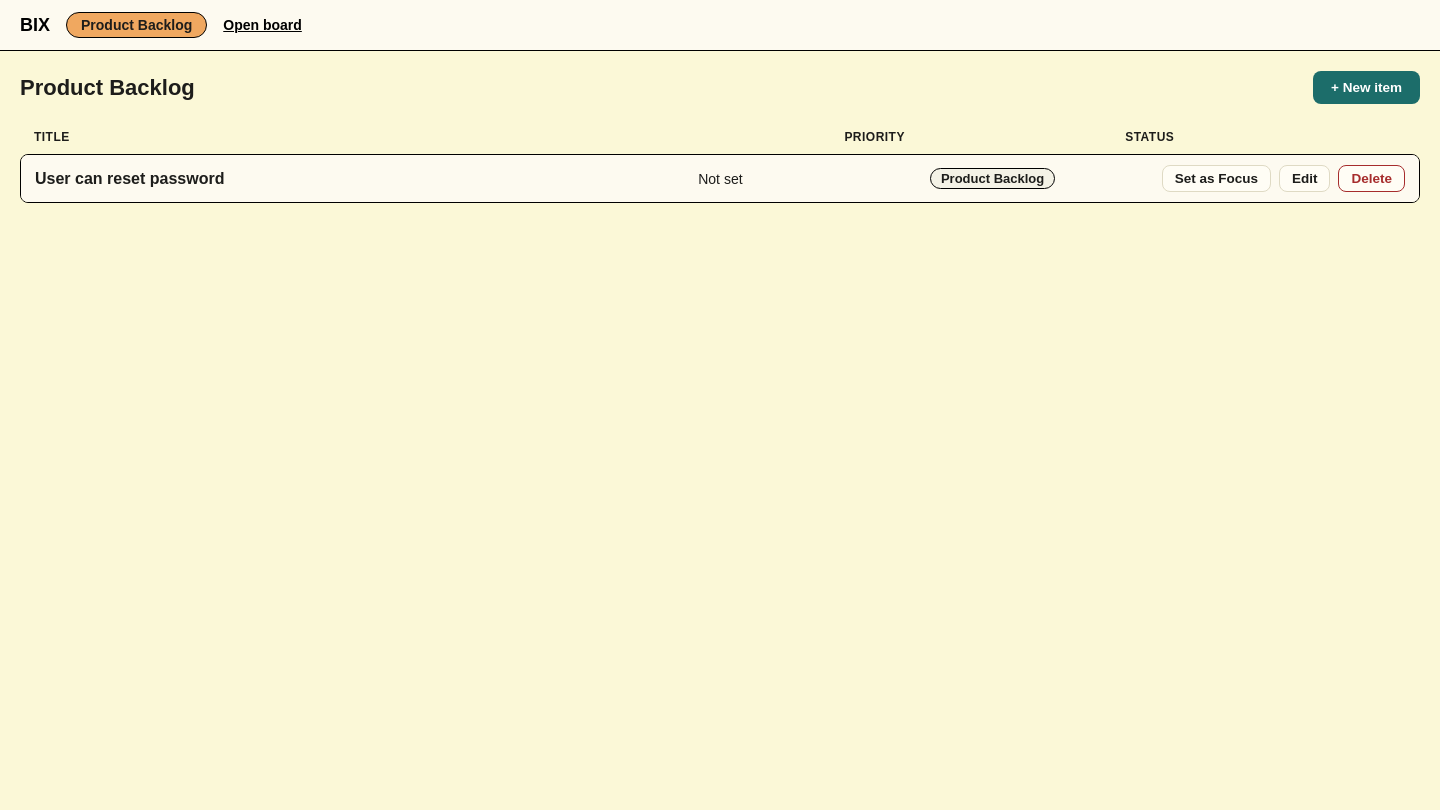
ProductBacklog page - create and edit (US-04b, SCRUM-101) › opens the edit form pre-filled for that row, and shows the saved change
Click the button with aria-label "Edit User can reset password" at (1305, 178), box [1279, 165, 1330, 192]
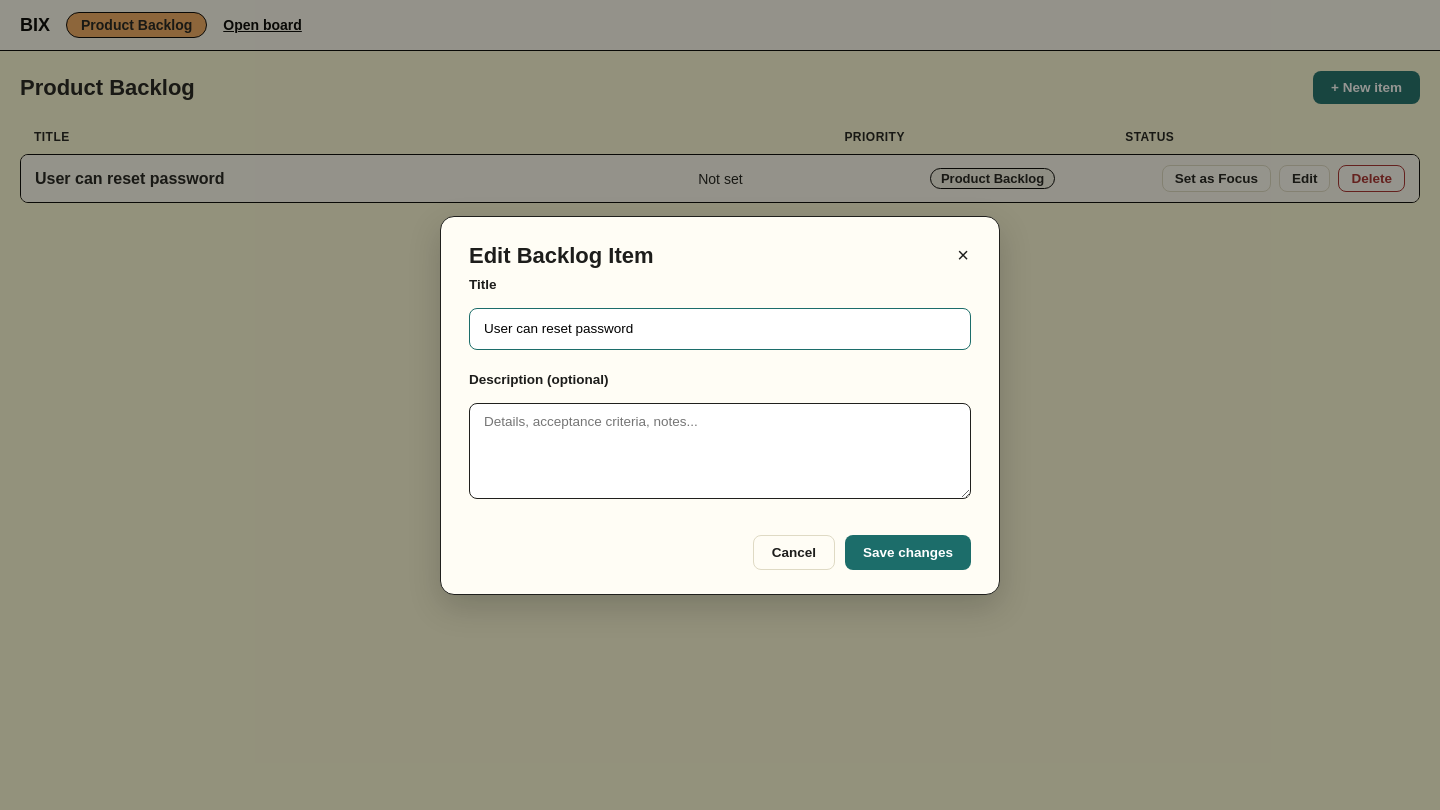
expect the field labelled "Title" holds "User can reset password": met
Replace the text in the field labelled "Title" with "Reset password by email" at (720, 328), box [469, 308, 971, 350]
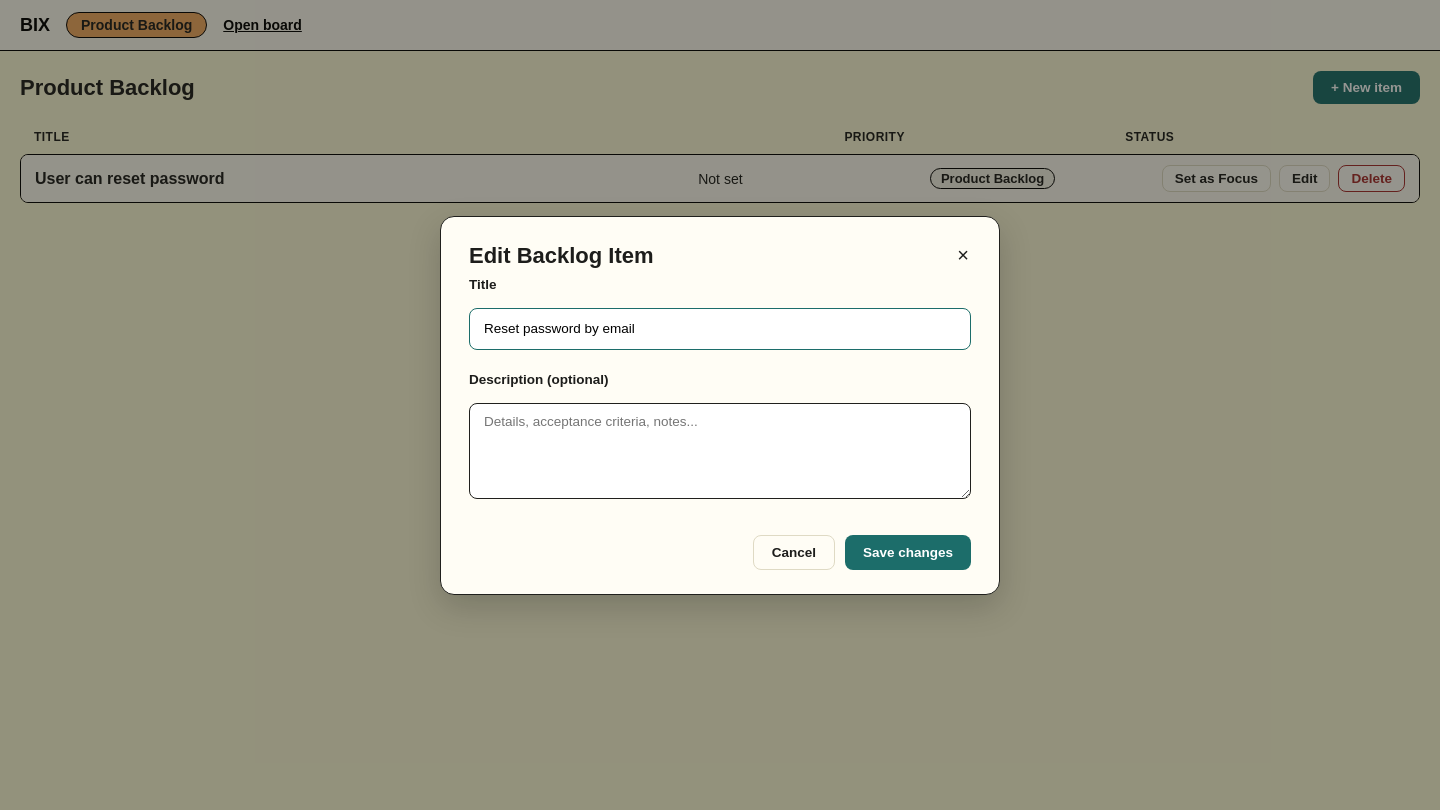
Click the button "Save changes" at (908, 552), box [845, 534, 971, 570]
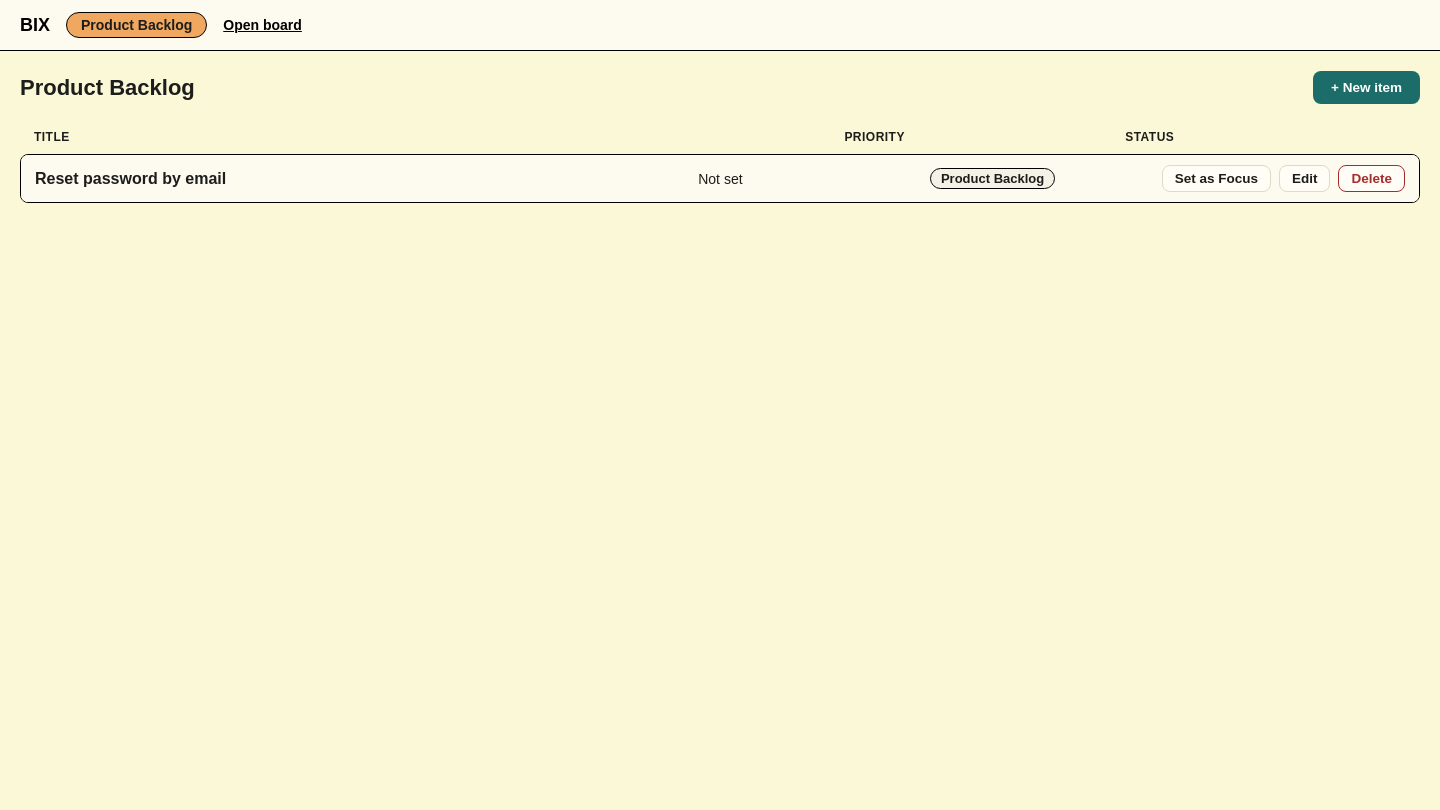
expect the text "Reset password by email" is shown: met, box [35, 170, 226, 186]
expect the dialog is gone: met
